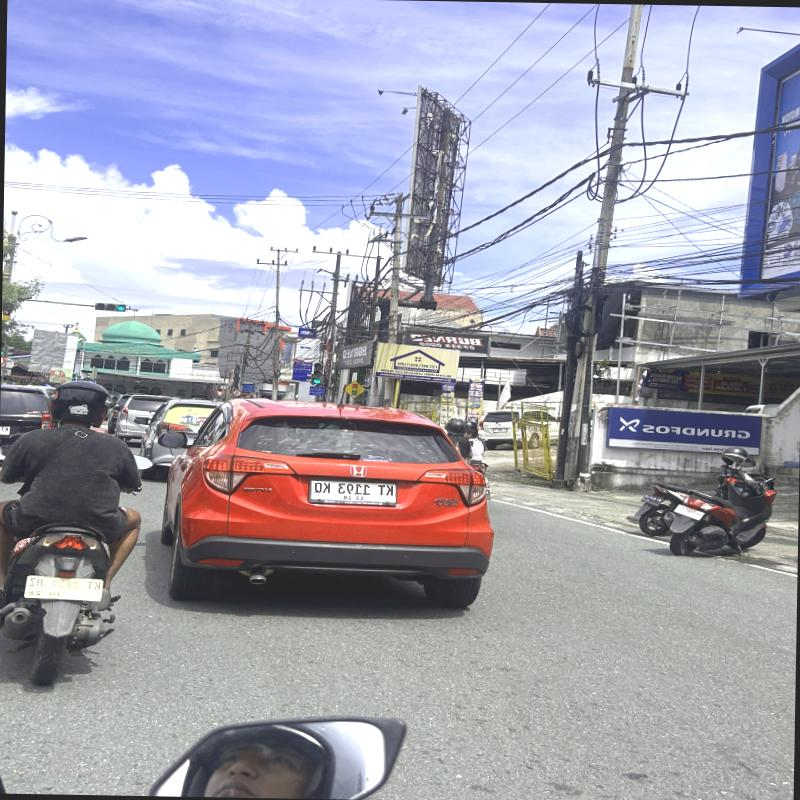license plate on a car: (310, 481, 399, 509)
